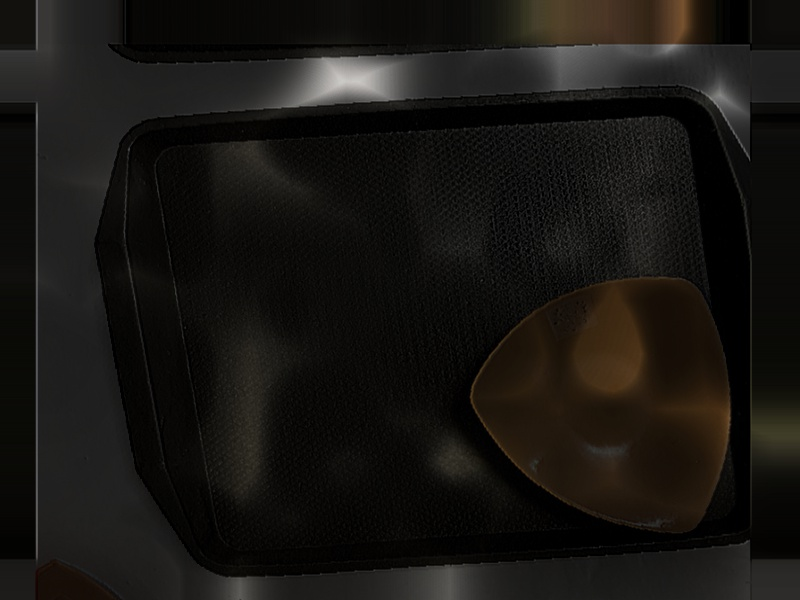dish11: (443, 268, 755, 550)
